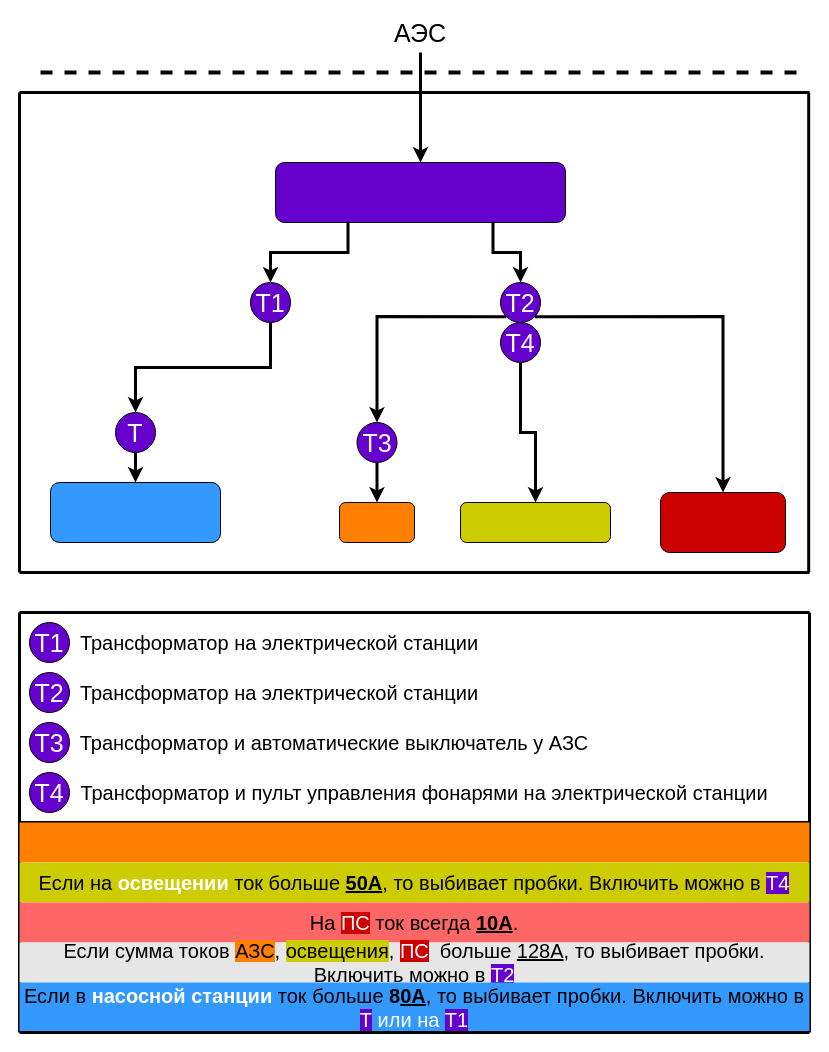
Image size: 829x1052. Some labels were removed from this diagram. Each missing label, with the centre of its shape:
"АЗС" belongs at (x=376, y=522).
"Если на АЗС ток больше 100А , то выбивает пробки. Включить можно в Т3" belongs at (x=414, y=842).
"Насосная станция" belongs at (x=135, y=512).
"Освещение" belongs at (x=535, y=522).
"Пожарная станция" belongs at (x=723, y=522).
"Электрическая станция (ЭС)" belongs at (x=420, y=192).
